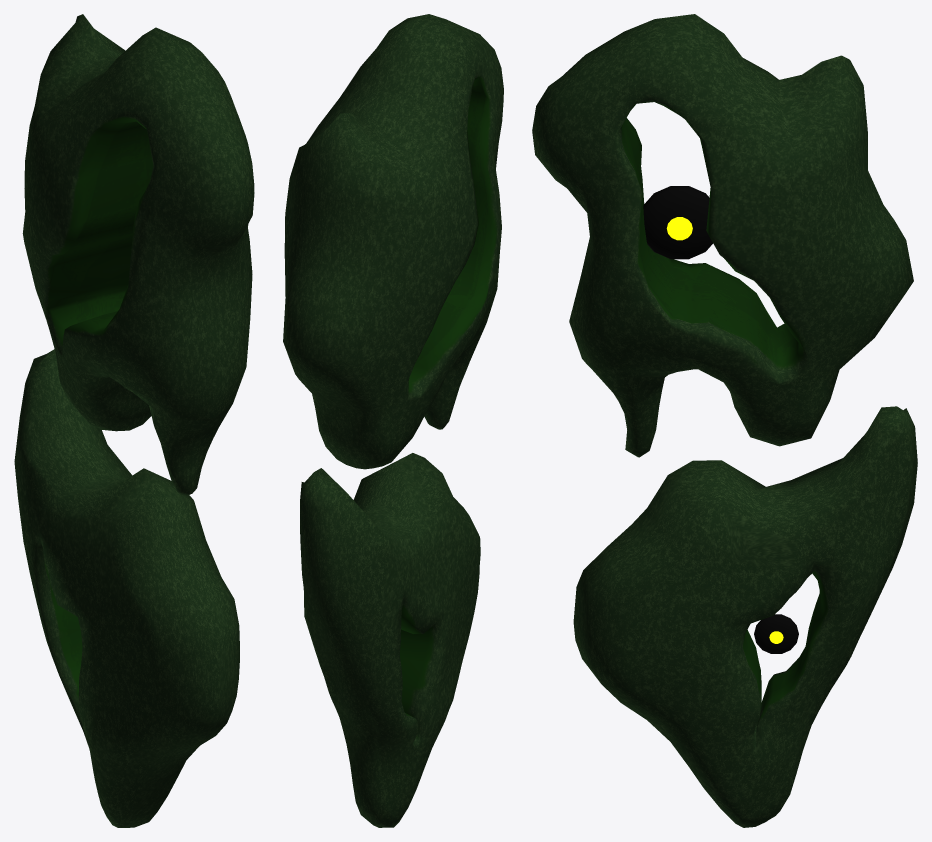
File: ENOCLOFOBIA.fbx
The picture shows the model from 3 angles, left to right: view 1: azimuth 30°, elevation 25°; view 2: azimuth 150°, elevation 25°; view 3: azimuth 270°, elevation 25°; orthographic projection. The views are drawn at different scales.
Visible parts, largest first — view 1: enoclofobia alto, Enoclofobia bajo; view 2: enoclofobia alto, Enoclofobia bajo; view 3: enoclofobia alto, Enoclofobia bajo, ojo 1, ojo 2.
Boxes of the visible parts, x1,y1,x2,y2 form: enoclofobia alto: (22, 14, 254, 496); Enoclofobia bajo: (14, 349, 239, 827); enoclofobia alto: (283, 14, 503, 469); Enoclofobia bajo: (300, 453, 480, 827); enoclofobia alto: (532, 14, 913, 457); Enoclofobia bajo: (573, 406, 917, 827); ojo 1: (643, 186, 712, 259); ojo 2: (754, 614, 798, 653).
Size of the model in its own units: 1.29 by 6.21 by 2.68.
